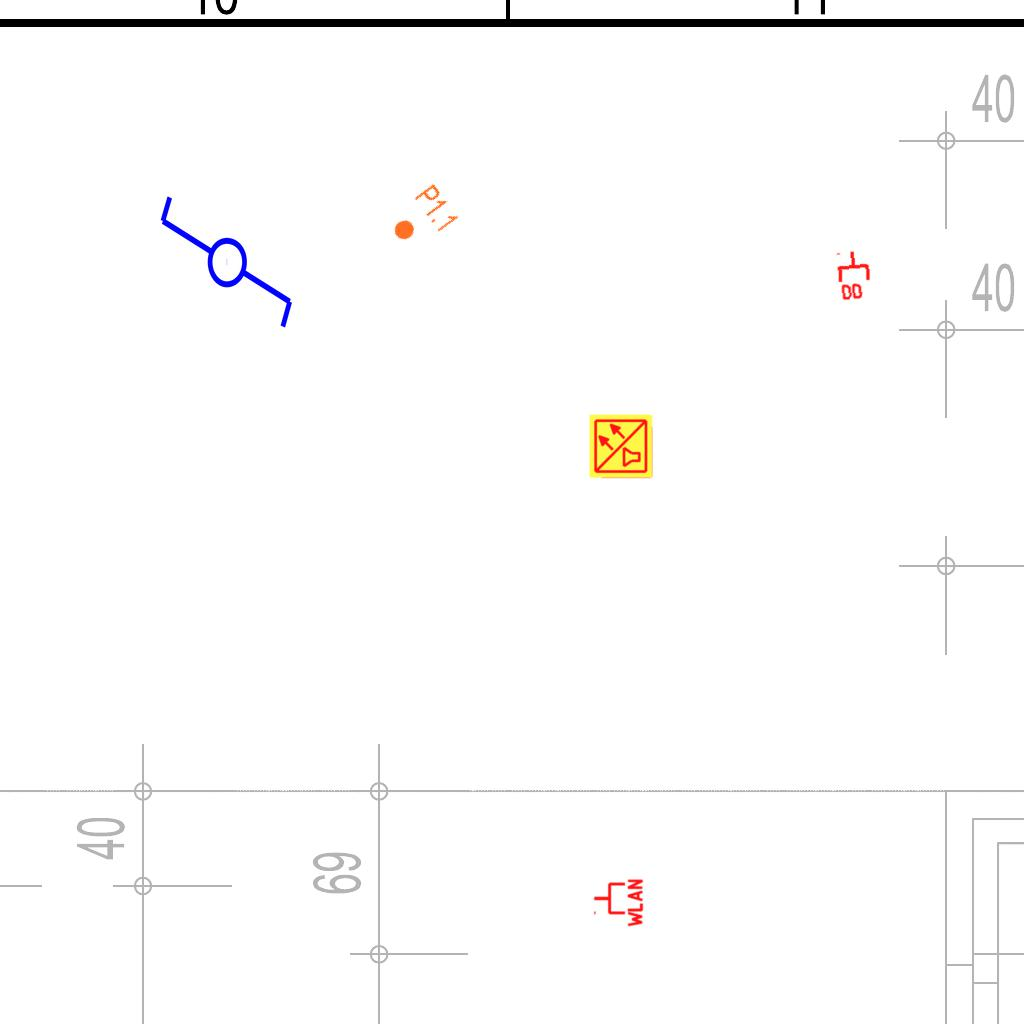Datenanschluss_zweifach: (835, 248, 875, 303)
Downlight_LED_Einbauleuchten_Flur: (382, 181, 462, 257)
OKW_Multisensormelder_(Kombination_optischer_Rauch-Kahlenmonoxid_Waerme-Melder): (588, 413, 654, 479)
WLAN: (592, 877, 644, 929)
Wechselschalter: (153, 192, 297, 349)
